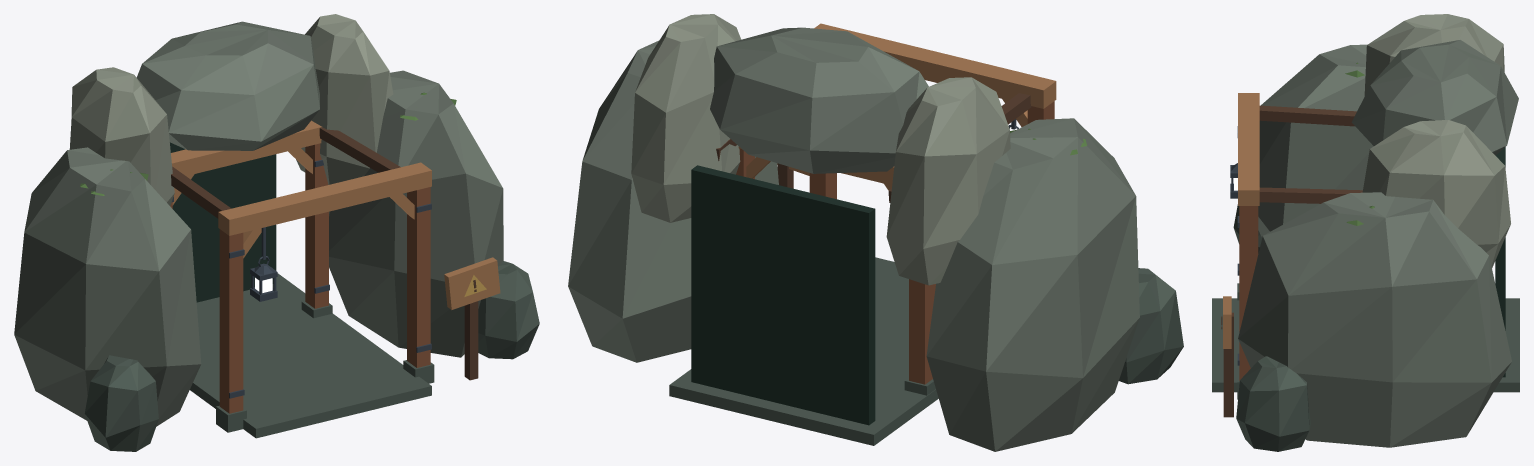
The model's file is mine_entrance.glb.
3 renders of one model, left to right at view 1: azimuth 30°, elevation 25°; view 2: azimuth 150°, elevation 25°; view 3: azimuth 270°, elevation 25°, orthographic. The views are drawn at different scales.
Parts seen in each view (by area): view 1: geometry; view 2: geometry; view 3: geometry.
Part boxes in pixels (x1,y1,x2,y2): geometry: [14, 14, 539, 451]; geometry: [568, 14, 1183, 451]; geometry: [1212, 14, 1519, 451].
Size of the model in its own units: 5.78 by 3.65 by 3.55.
